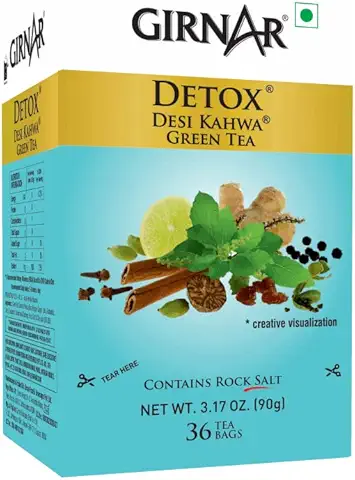Tea: (2, 1, 355, 480)
